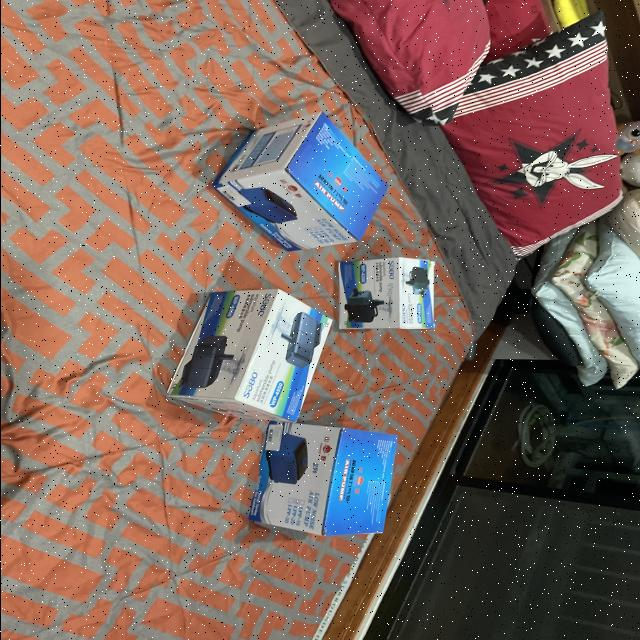SOBO_WP_4200: (160, 279, 352, 431), (320, 240, 450, 336)
YAMANO_LPP_20: (198, 108, 396, 254), (243, 411, 407, 564)
